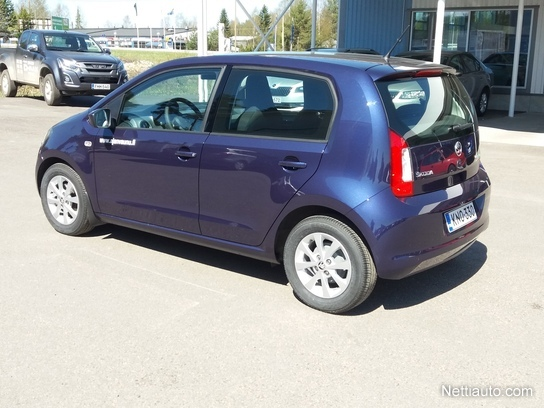car: (36, 52, 489, 299), (1, 28, 128, 102)
